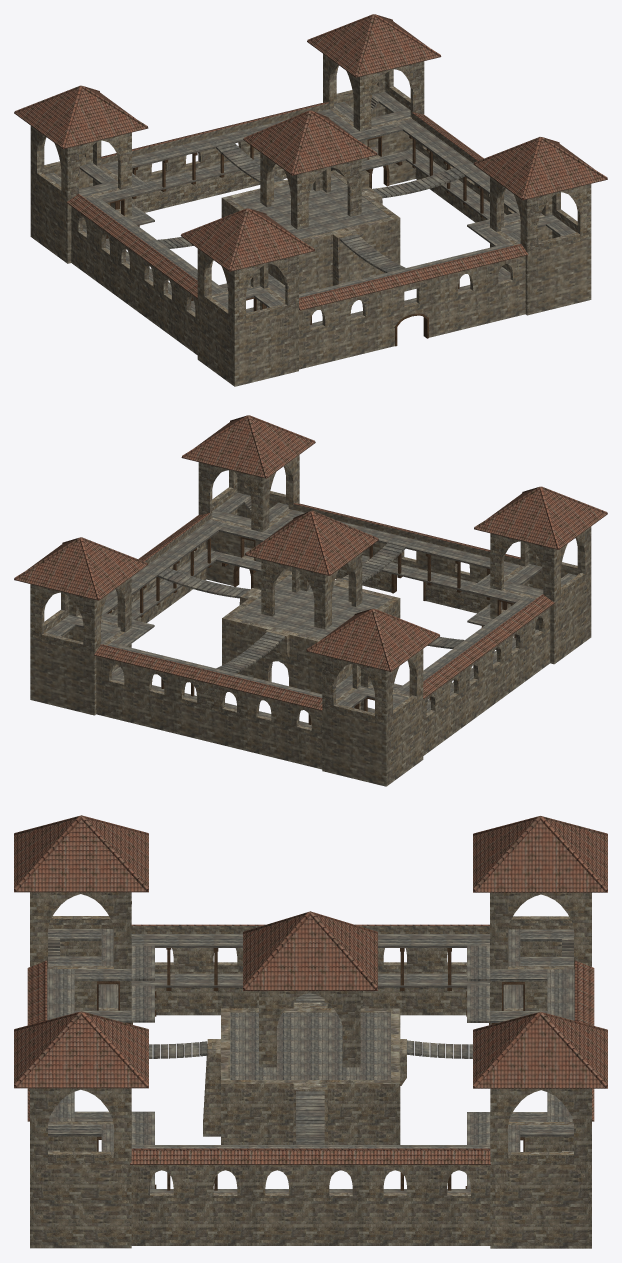
The model's file is Fort1_Kardia1.dae.
3 renders of one model, top to bottom at view 1: azimuth 30°, elevation 25°; view 2: azimuth 150°, elevation 25°; view 3: azimuth 270°, elevation 25°, orthographic. The views are drawn at different scales.
Visible parts, largest first — view 1: forts_stone-0, fort_wood_sep120-0, unnamed_object1_sep335-0; view 2: forts_stone-0, fort_wood_sep120-0, unnamed_object1_sep335-0; view 3: forts_stone-0, fort_wood_sep120-0, unnamed_object1_sep335-0.
Boxes of the visible parts, bbox=[...] form: forts_stone-0: bbox=[14, 14, 607, 386]; fort_wood_sep120-0: bbox=[45, 91, 576, 327]; unnamed_object1_sep335-0: bbox=[106, 135, 483, 324]; forts_stone-0: bbox=[14, 415, 607, 786]; fort_wood_sep120-0: bbox=[45, 492, 576, 727]; unnamed_object1_sep335-0: bbox=[107, 538, 515, 724]; forts_stone-0: bbox=[14, 815, 607, 1248]; fort_wood_sep120-0: bbox=[47, 929, 574, 1192]; unnamed_object1_sep335-0: bbox=[126, 948, 496, 1190].
Size of the model in its own units: 6356 by 2528 by 6294.
